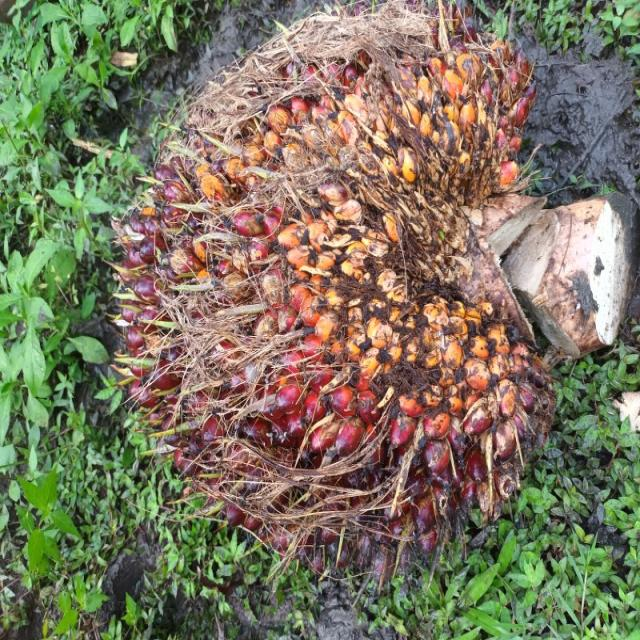fraksi 1: (111, 27, 566, 573)
